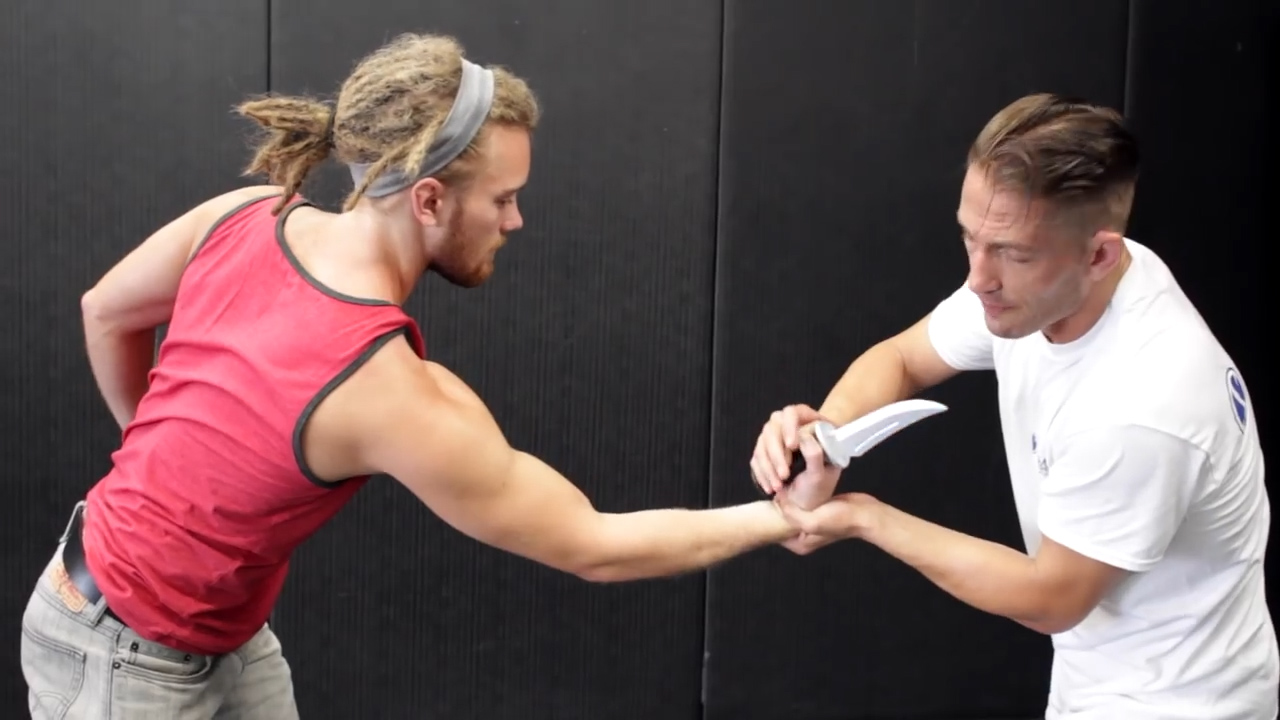knife: (757, 385, 962, 498)
